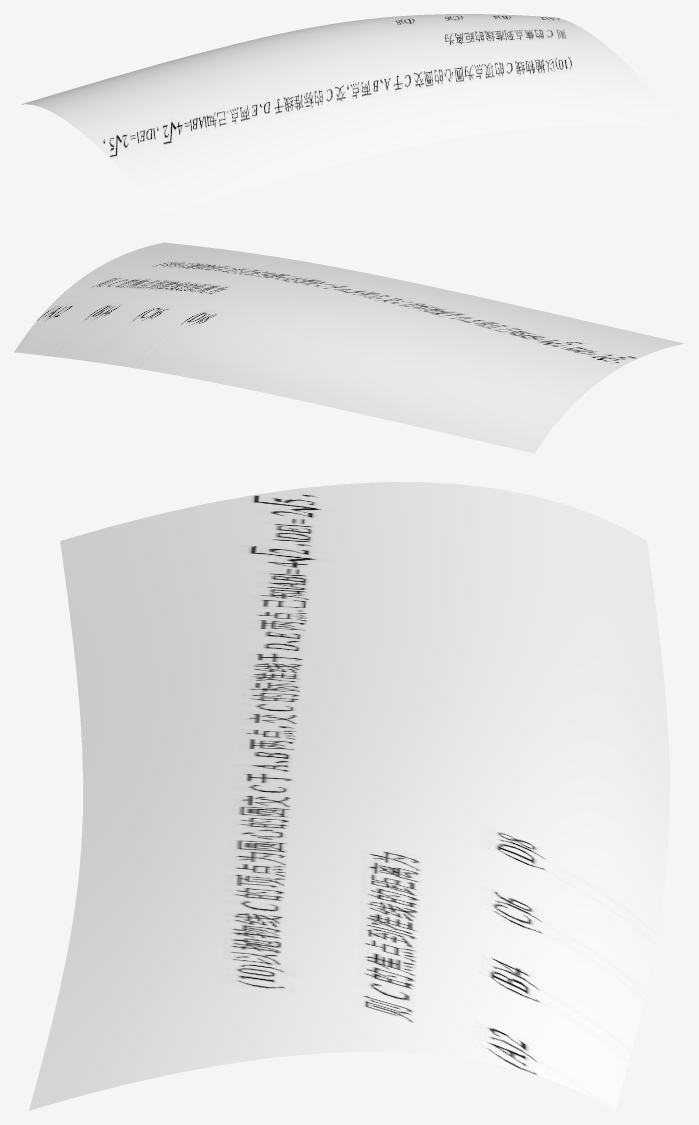
The model's file is math5.fbx.
3 views of the same model, one above another, from view 1: azimuth 30°, elevation 25°; view 2: azimuth 150°, elevation 25°; view 3: azimuth 270°, elevation 25° (orthographic). The views are drawn at different scales.
Visible parts, largest first — view 1: 曲面片; view 2: 曲面片; view 3: 曲面片.
Boxes of the visible parts, <box> form: 曲面片: <box>21,14,684,213</box>; 曲面片: <box>14,242,684,453</box>; 曲面片: <box>29,482,669,1110</box>.
Size of the model in its own units: 418 by 50.32 by 223.
Materials: 1 (1 with a texture image).
